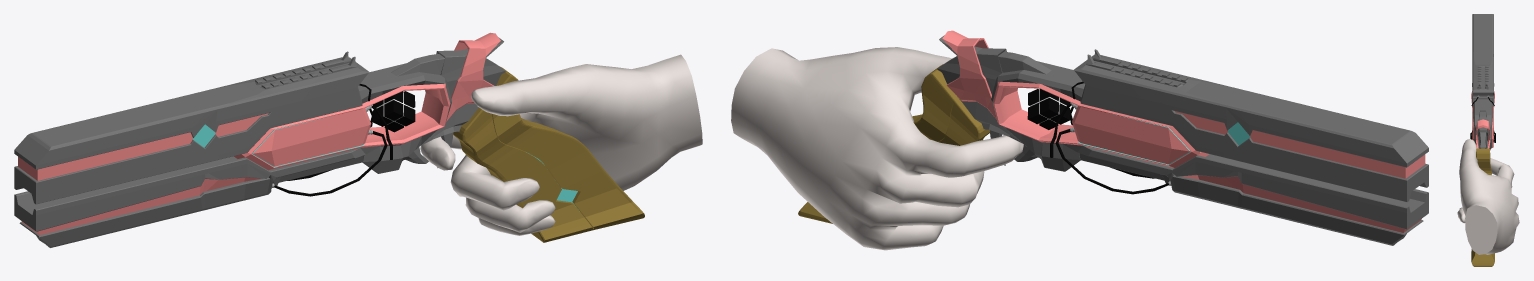
File: gun_withhand.fbx
3 renders of one model, left to right at view 1: azimuth 30°, elevation 25°; view 2: azimuth 150°, elevation 25°; view 3: azimuth 270°, elevation 25°, orthographic. The views are drawn at different scales.
Parts seen in each view (by area): view 1: gun_low, hand_low2, cube_low; view 2: gun_low, hand_low2, cube_low; view 3: hand_low2, gun_low.
Part boxes in pixels (bbox=[...]): gun_low: bbox=[14, 32, 644, 247]; hand_low2: bbox=[420, 54, 702, 235]; cube_low: bbox=[372, 91, 415, 132]; gun_low: bbox=[798, 30, 1428, 245]; hand_low2: bbox=[731, 47, 1023, 250]; cube_low: bbox=[1027, 89, 1070, 129]; hand_low2: bbox=[1457, 139, 1519, 254]; gun_low: bbox=[1470, 14, 1495, 266].
Bounding box in the file's own units: 26.99 × 8.72 × 4.31.
